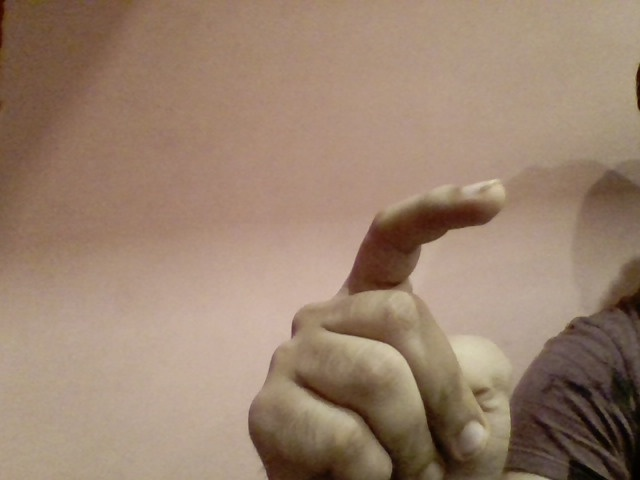x: (231, 172, 523, 480)
